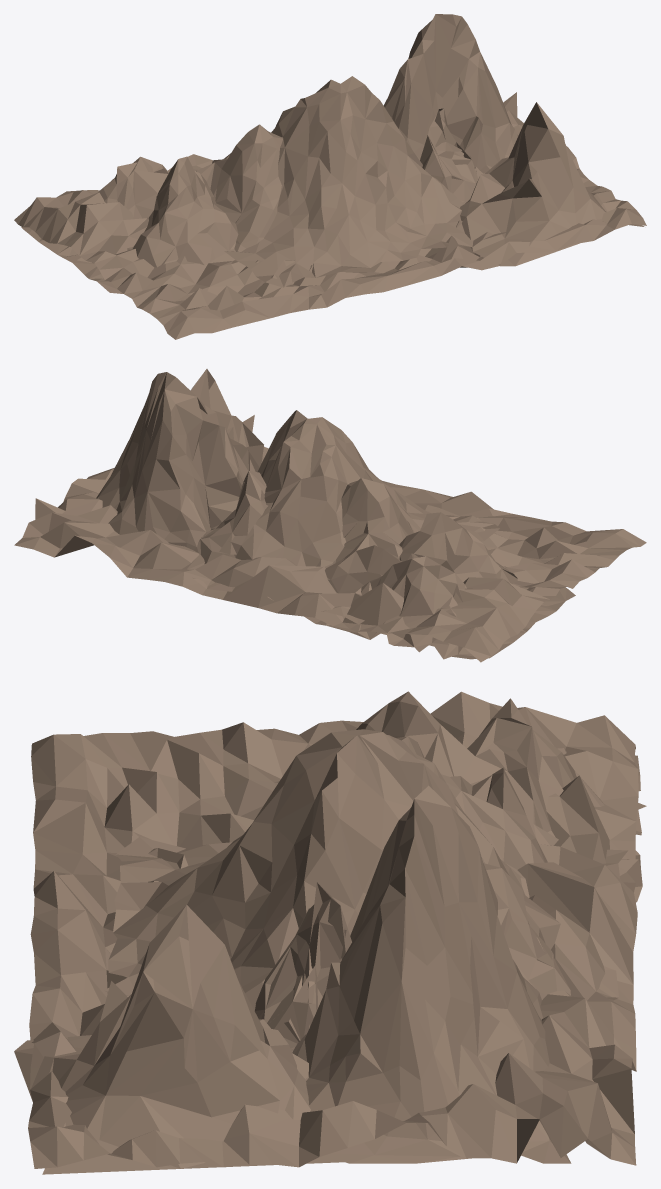
The model's file is mountain.dae.
3 renders of one model, top to bottom at view 1: azimuth 30°, elevation 25°; view 2: azimuth 150°, elevation 25°; view 3: azimuth 270°, elevation 25°, orthographic. The views are drawn at different scales.
Visible parts, largest first — view 1: Null (×8); view 2: Null (×6); view 3: Null (×8).
Boxes of the visible parts, x1,y1,x2,y2 form: Null (×8): (14,14,646,339); Null (×6): (14,369,646,662); Null (×8): (14,691,646,1174).
Bounding box in the file's own units: 94.25 × 32.91 × 58.53.
